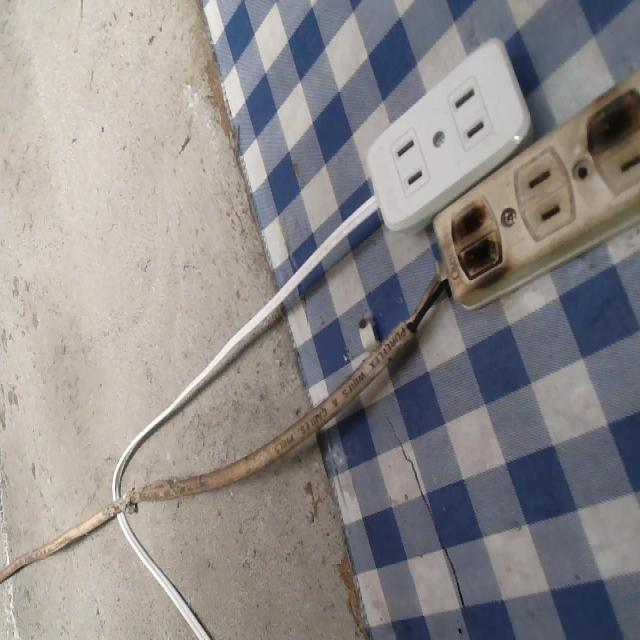-: (443, 196, 517, 288), (584, 81, 639, 155)
